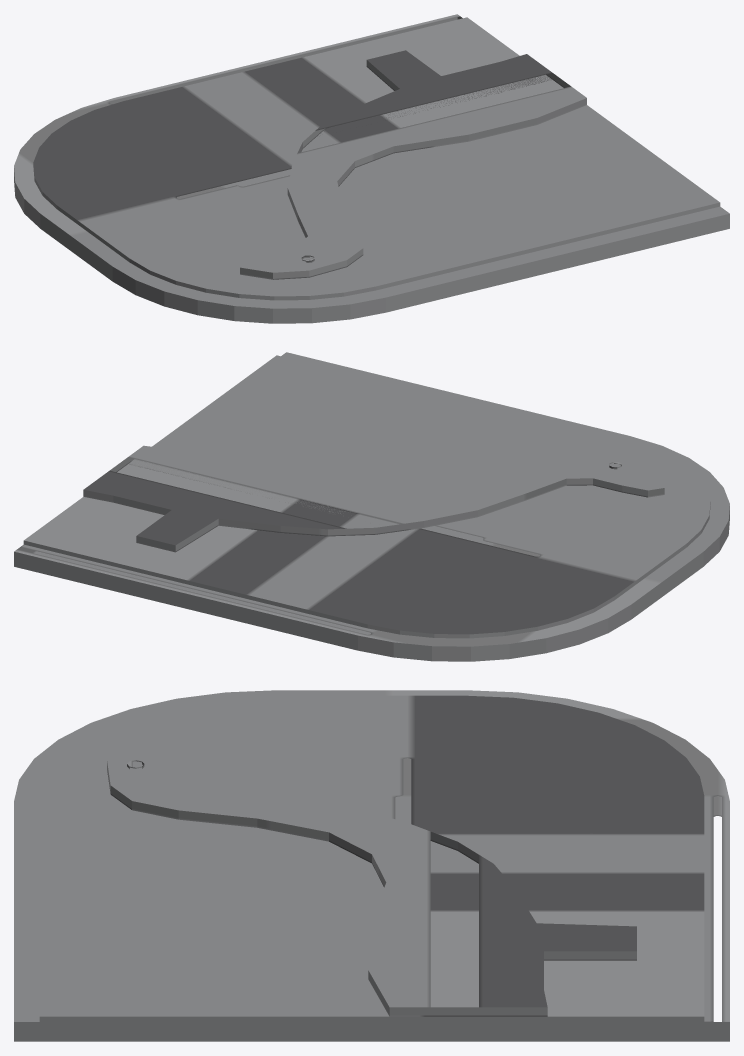
3 renders of one model, top to bottom at view 1: azimuth 30°, elevation 25°; view 2: azimuth 150°, elevation 25°; view 3: azimuth 270°, elevation 25°, orthographic. The views are drawn at different scales.
Bounding box in the file's own units: 1.07 × 0.056 × 0.98.
